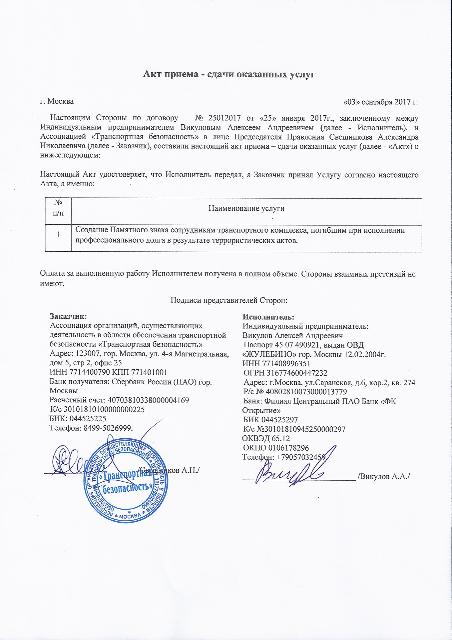stamp: (86, 436, 168, 524)
